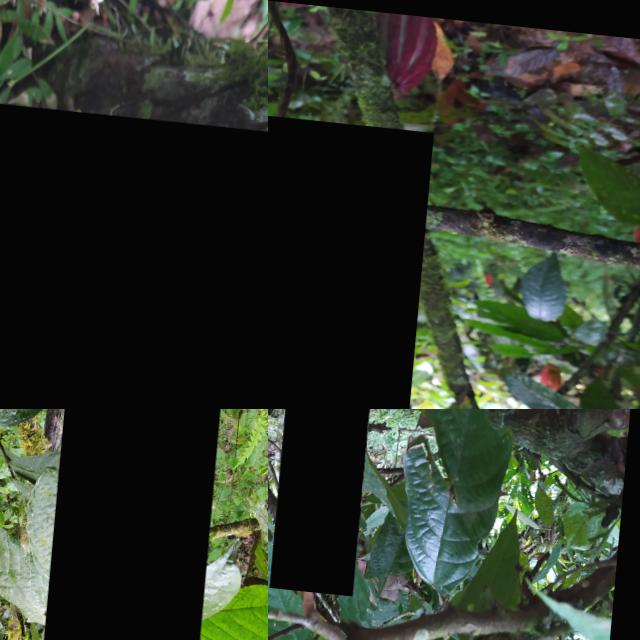Fitoftora: (30, 409, 221, 640), (45, 409, 75, 447)
Monilia: (0, 91, 268, 409), (268, 109, 436, 409), (279, 409, 383, 588)
